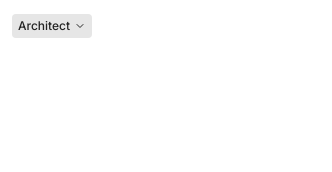
Test case: ArchetypeSelector › handles empty alternatives gracefully
Click the button with test id "archetype-selector" at (52, 26), box [12,14,92,38]
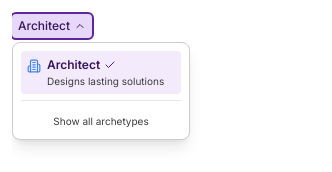
expect the number of options is 1: met, box [21,51,181,94]
